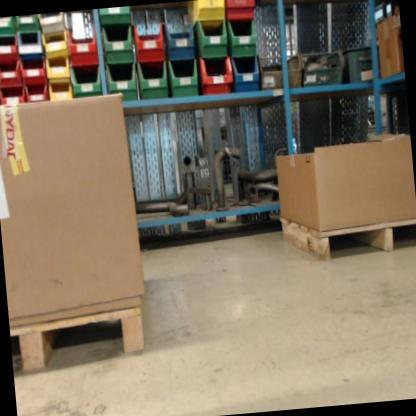pallet: (9, 304, 147, 376), (280, 206, 416, 265)
